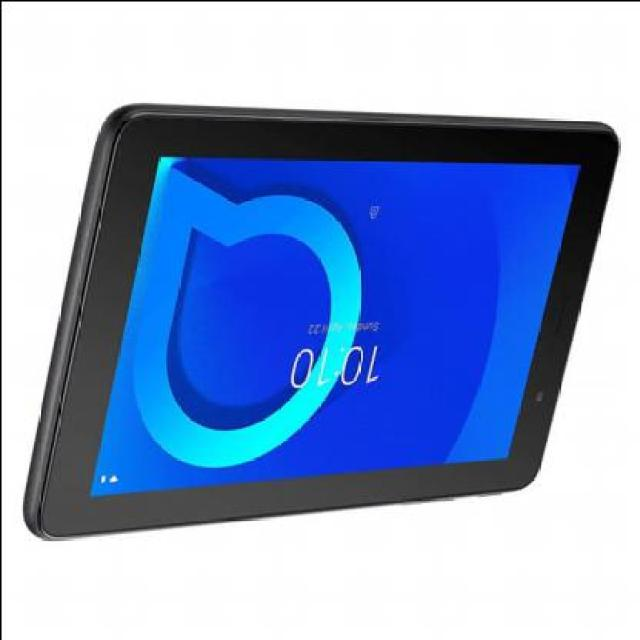tablet: (35, 74, 610, 552)
